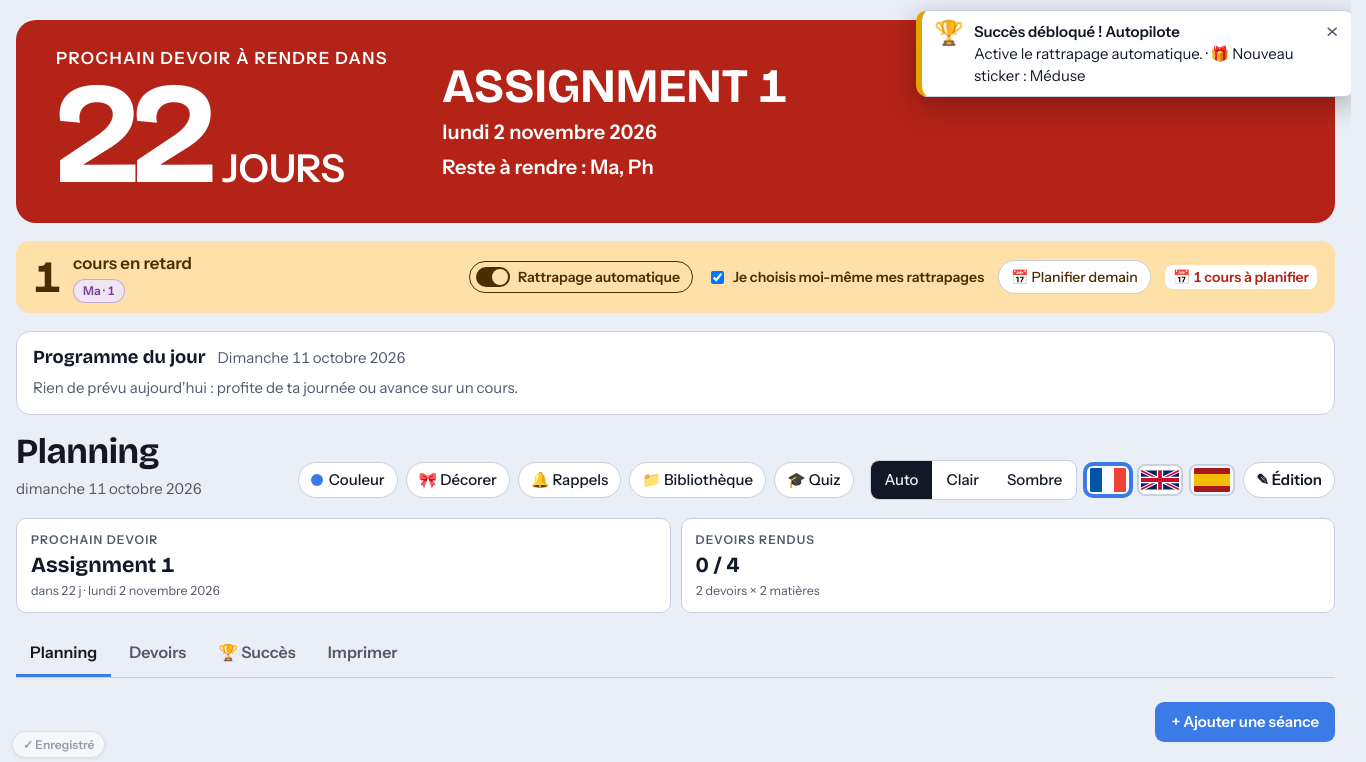
manual catch-up planning › "Planifier demain" asks what to catch up, with hours for the morning and the afternoon, and saves the choice
Click the button "📅 Planifier demain": [1074, 277] box [998,260,1151,294]
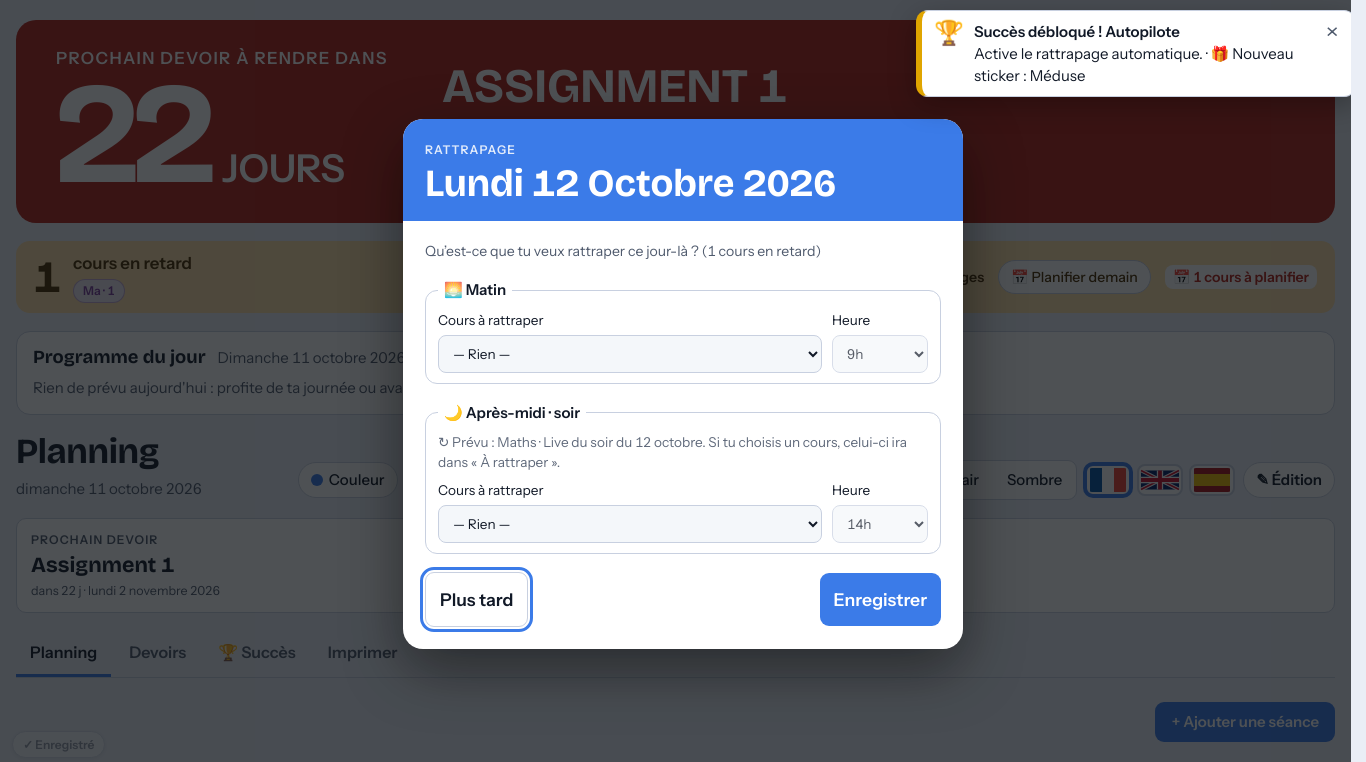
Check: the text "lundi 12 octobre 2026" is shown, box [425,160,836,206]
Check: the dropdown named "Heure – Matin" is disabled, box [832,335,928,373]
Check: the text "Prévu : Maths · Live du soir" is shown, box [438,434,907,470]
Select "Maths · Live du soir du 5 octobre" in the dropdown named "Cours à rattraper – Matin": [630, 354] box [438,335,822,373]
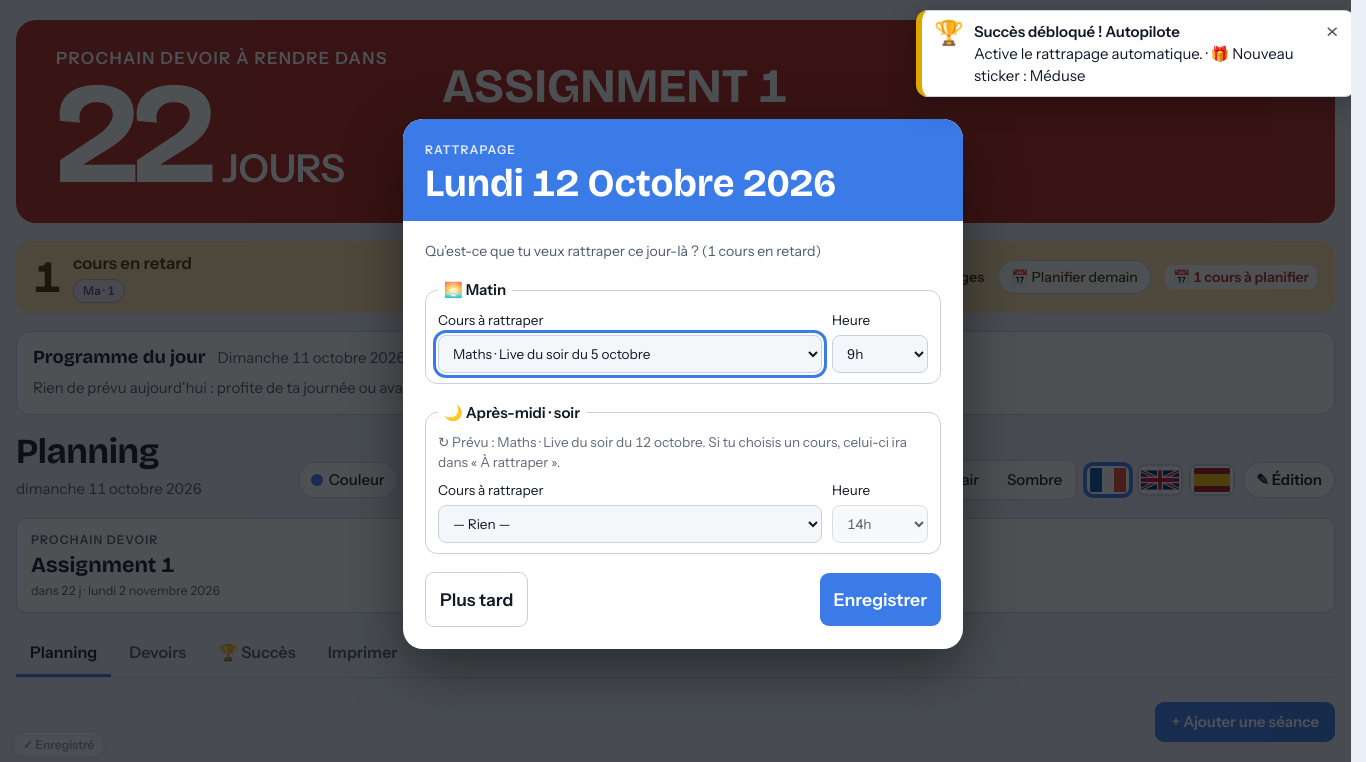
Select "10h" in the dropdown named "Heure – Matin": [880, 354] box [832,335,928,373]
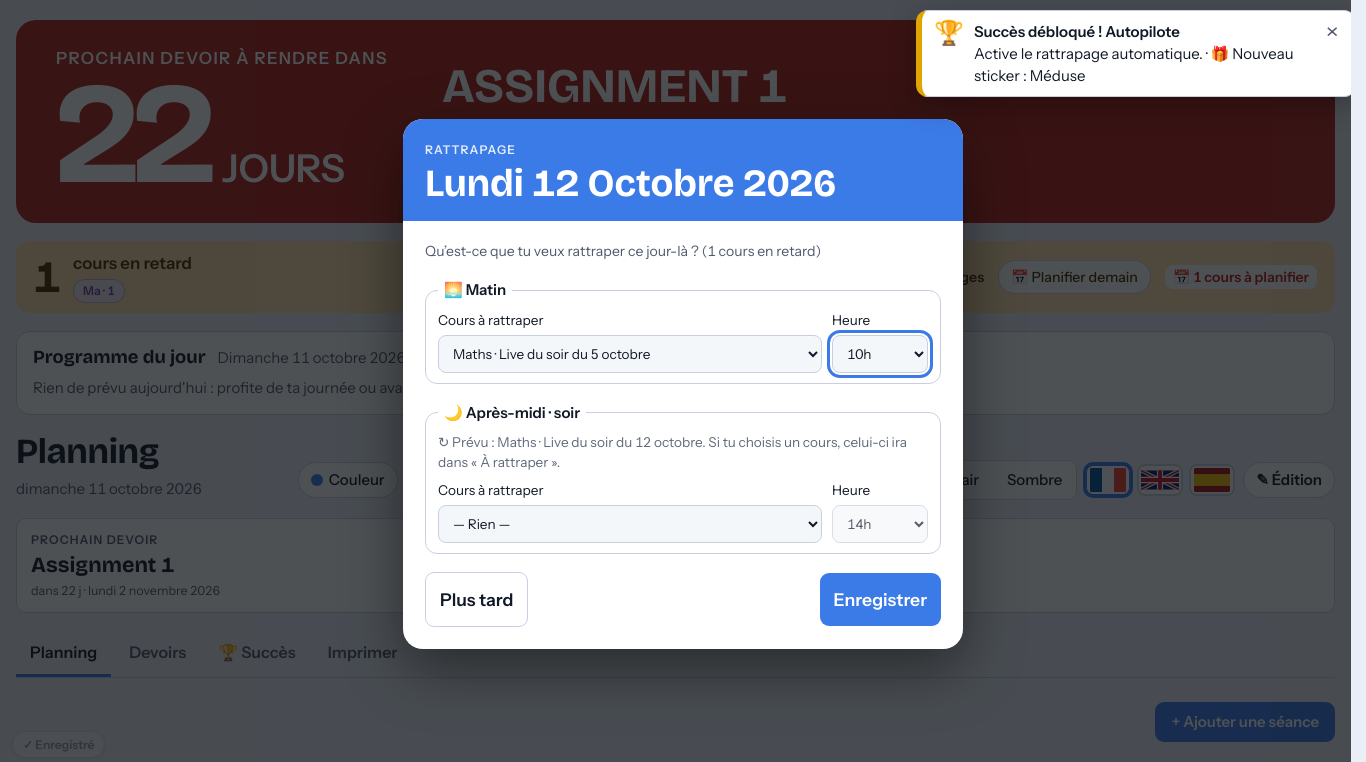
Click the button "Enregistrer": [880, 599] box [820,572,941,626]
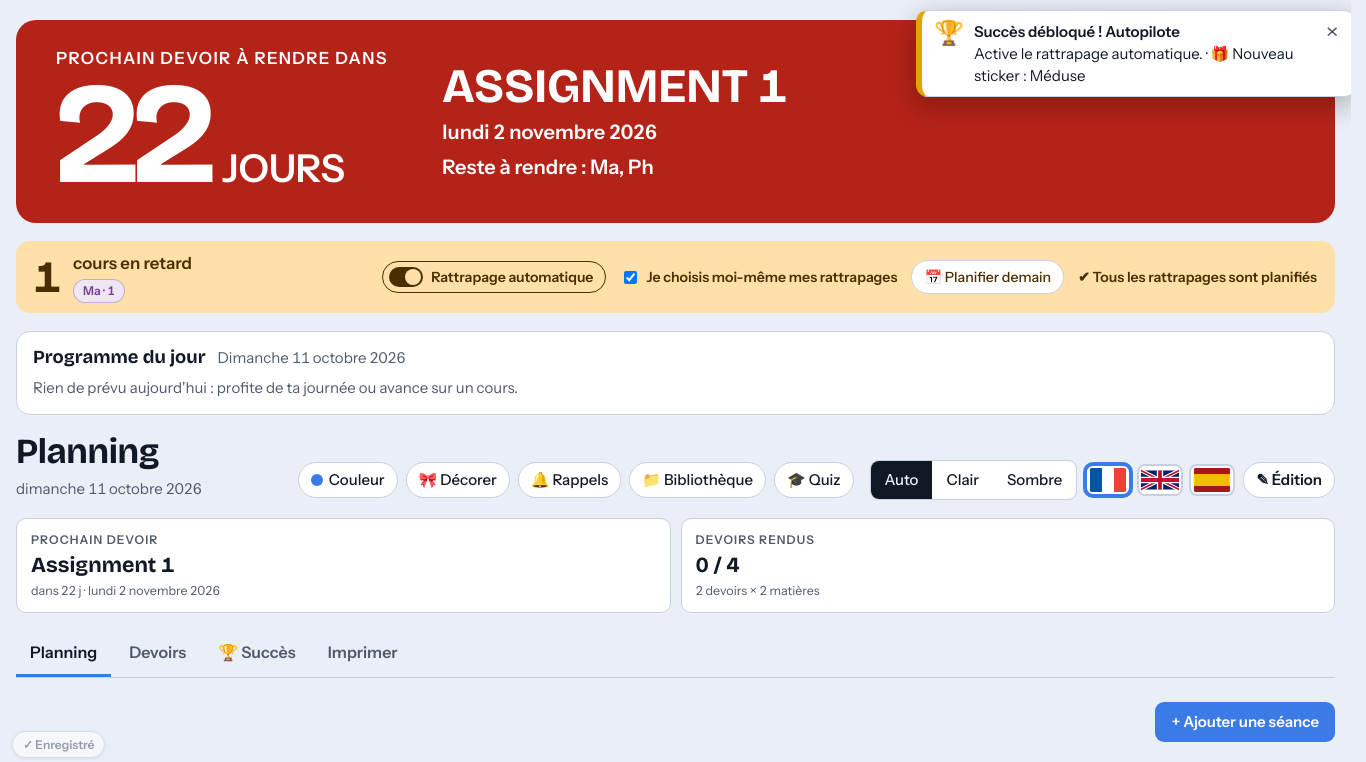
Check: the text "✔ Tous les rattrapages sont planifiés" is shown, box [1078,267,1317,287]
